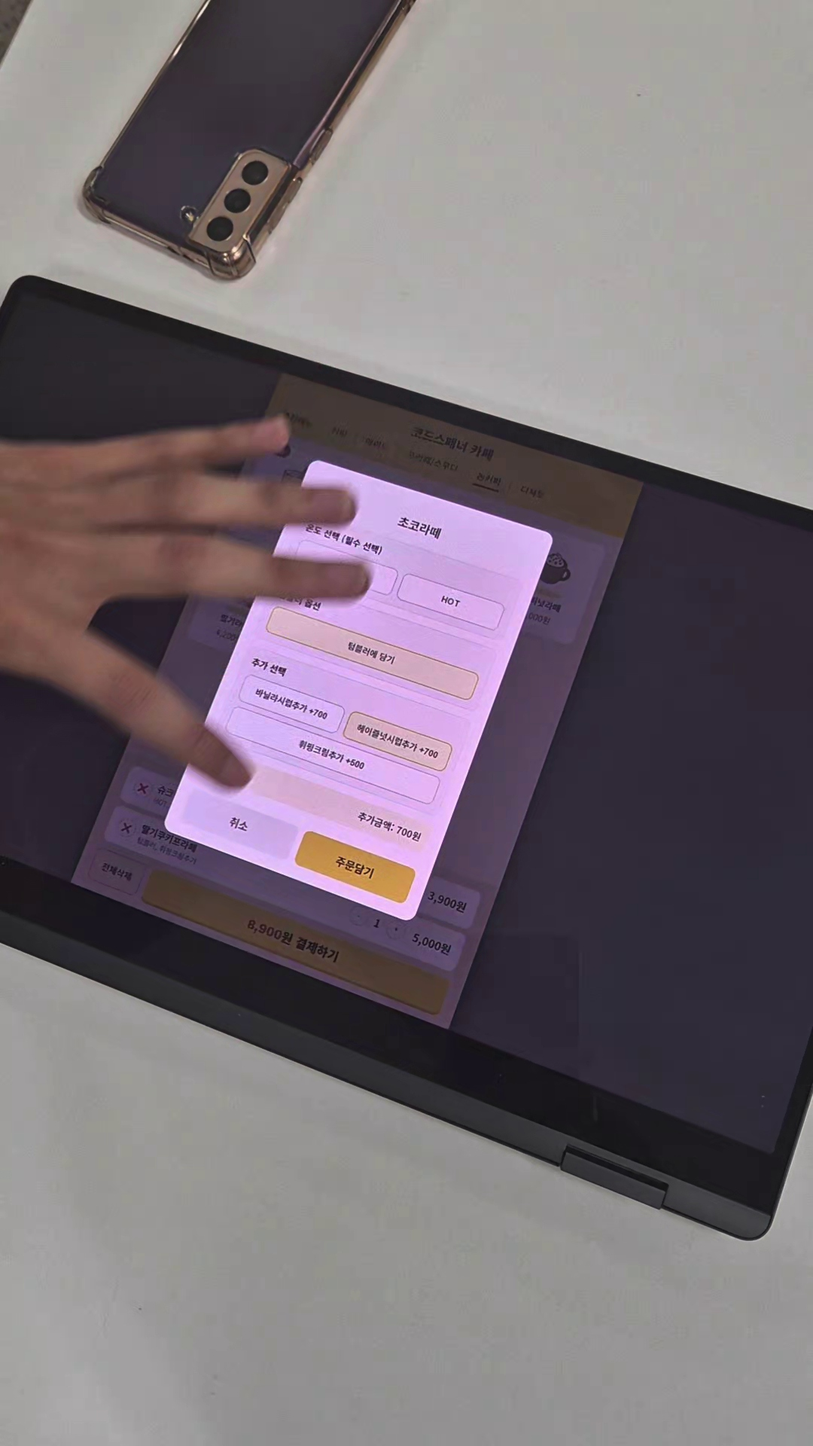action_button: (171, 783, 304, 865), (292, 825, 417, 905)
menu_name: (392, 512, 450, 542)
option_button: (265, 604, 480, 703), (225, 706, 441, 804), (393, 573, 509, 635), (235, 674, 349, 735), (344, 710, 452, 772)
popup_modal: (156, 456, 558, 928)
